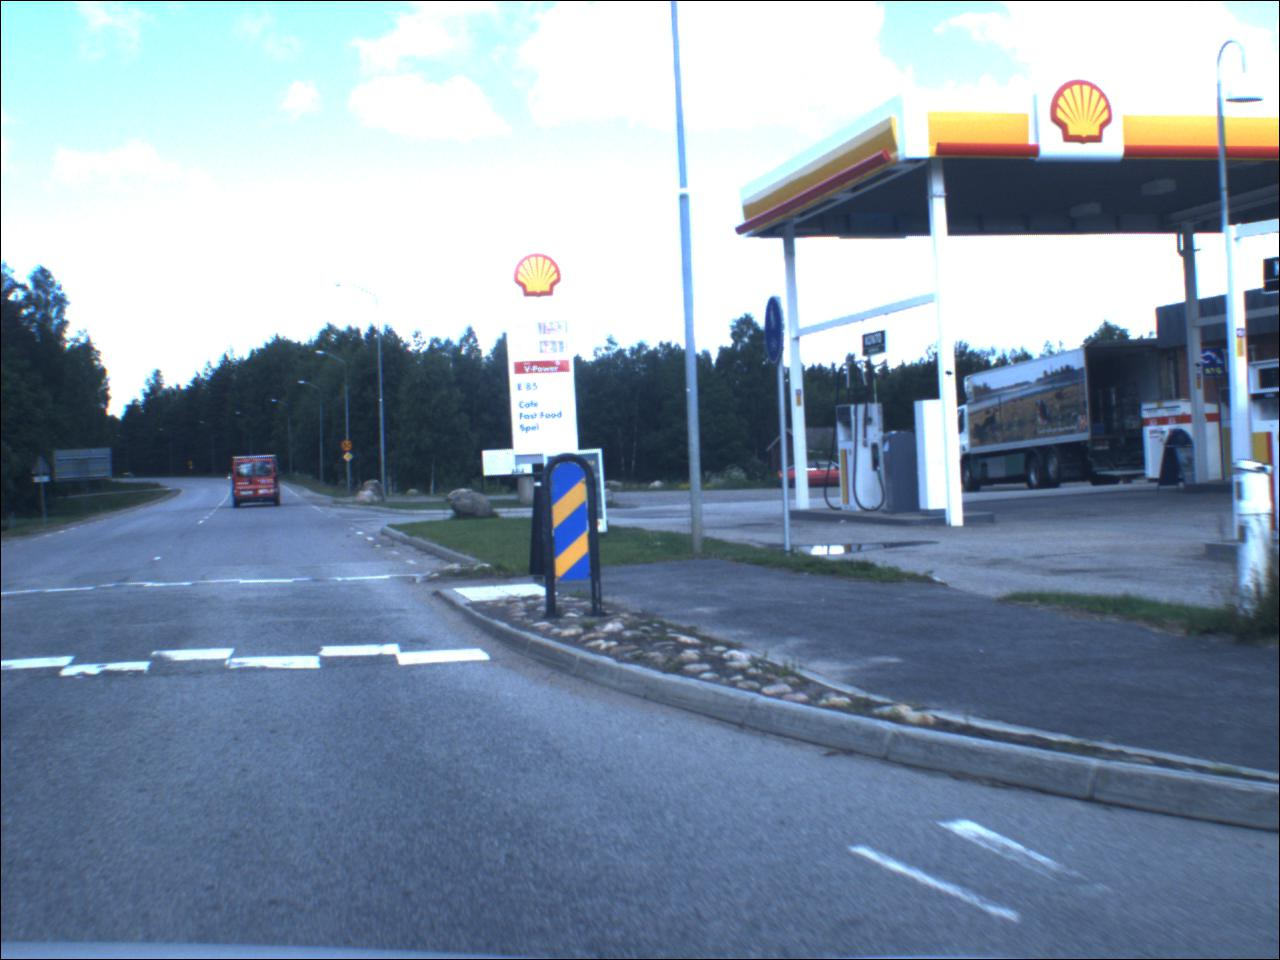50_SIGN: (342, 441, 356, 454)
PRIORITY_ROAD: (344, 454, 357, 463)
